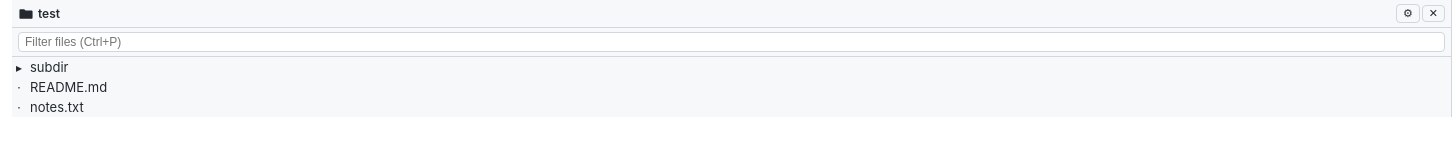
Test: 6.4 – filter hides non-matching files › parent folders of matching files appear as group section headers
Expected: the text "subdir" is shown, [30,59,68,75]
Click the list item "subdir" at (42, 67), box [16,59,68,75]
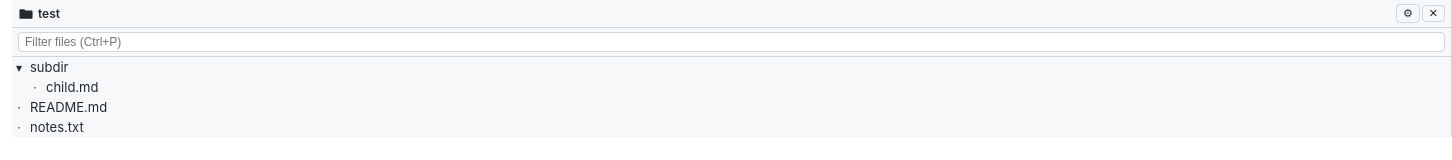
Now the text "child.md" is shown, box [46,79,98,95]
# Now filter for "child"
Type "child" into the field labelled "Filter files" at (732, 42), box [18,32,1445,52]
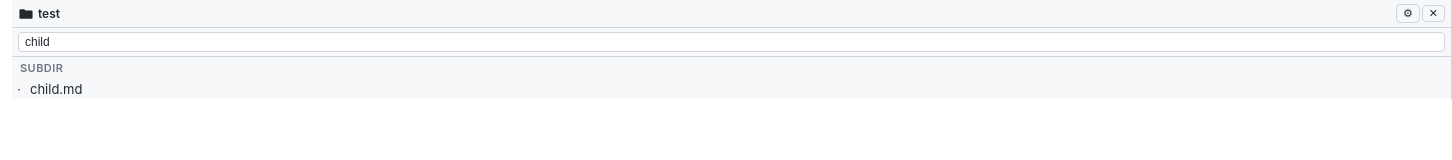
Now the text "child.md" is shown, box [30,81,82,97]
Now the option "README.md" is gone
Now the option "notes.txt" is gone
